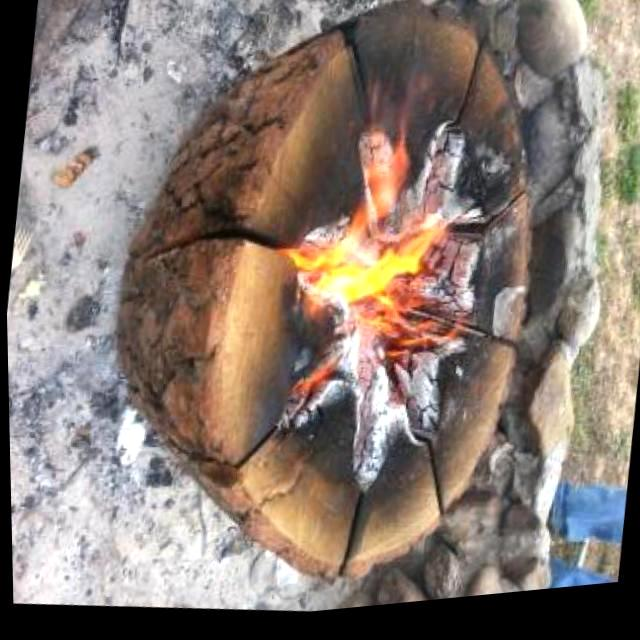fire: (278, 190, 467, 348)
